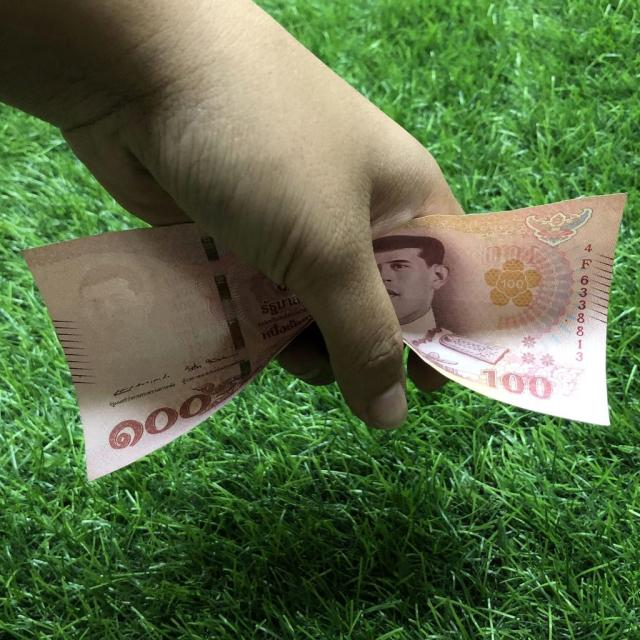THAI100: (24, 224, 322, 479), (373, 194, 626, 425), (135, 325, 141, 332)
